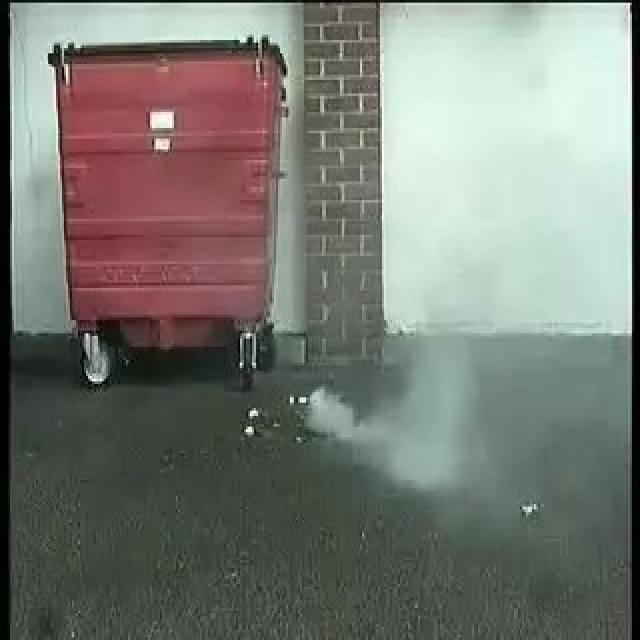smoke: (302, 332, 496, 472)
